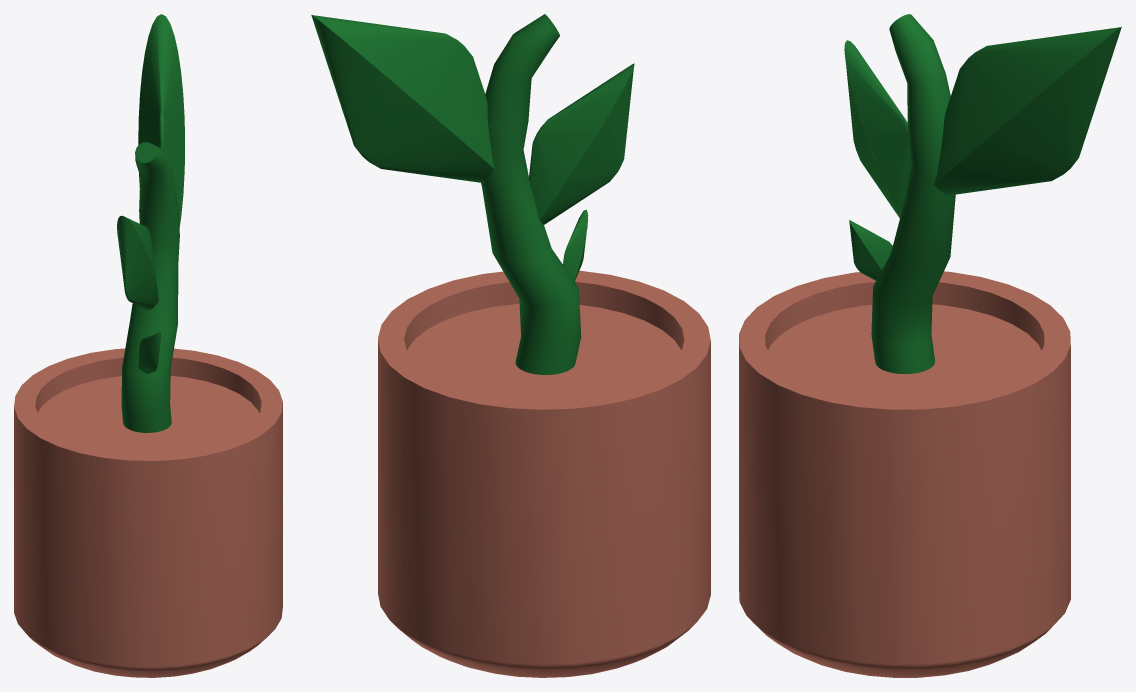
File: zhiwu5.fbx
The picture shows the model from 3 angles, left to right: view 1: azimuth 30°, elevation 25°; view 2: azimuth 150°, elevation 25°; view 3: azimuth 270°, elevation 25°; orthographic projection. The views are drawn at different scales.
Visible parts, largest first — view 1: polySurface104, polySurface105, polySurface110, polySurface108, polySurface106, polySurface109; view 2: polySurface104, polySurface105, polySurface111, polySurface110, polySurface109, polySurface108, polySurface107; view 3: polySurface104, polySurface105, polySurface111, polySurface110, polySurface109, polySurface108, polySurface107, polySurface106.
Part boxes in pixels (x1,y1,x2,y2): polySurface104: (14,348,282,677); polySurface105: (121,142,179,432); polySurface110: (138,15,184,226); polySurface108: (117,216,158,310); polySurface106: (138,332,161,373); polySurface109: (117,215,157,286); polySurface104: (378,270,710,677); polySurface105: (481,14,581,374); polySurface111: (311,15,494,182); polySurface110: (312,15,494,168); polySurface109: (529,63,634,219); polySurface108: (539,68,633,224); polySurface107: (563,209,588,280); polySurface104: (739,271,1070,677); polySurface105: (871,14,955,373); polySurface111: (934,26,1121,195); polySurface110: (933,27,1119,185); polySurface109: (844,40,910,216); polySurface108: (846,64,900,218); polySurface107: (849,220,892,269); polySurface106: (849,221,881,280).
Size of the model in its own units: 59.82 by 133 by 69.04.
